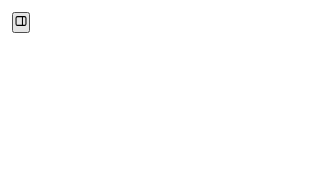
Test: swaps between folder properties and project details when the saved category changes
The image size is (332, 172).
Later steps or results of the test are not shown.
What coordinates should you click on to do the following:
click the button with test id "properties-toggle"
I would click on:
 (21, 22)
Its box is [12,12,30,33].
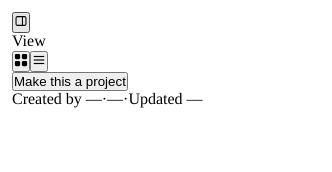
Expected: the element named "Container properties" is shown, [12,33,203,108]
